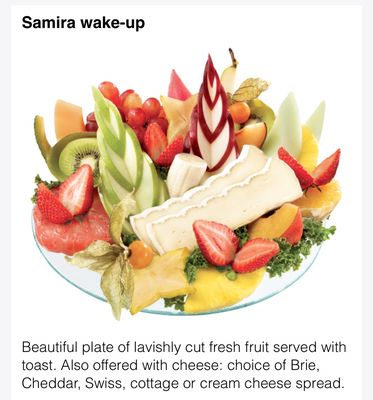curry: (265, 218, 337, 279)
